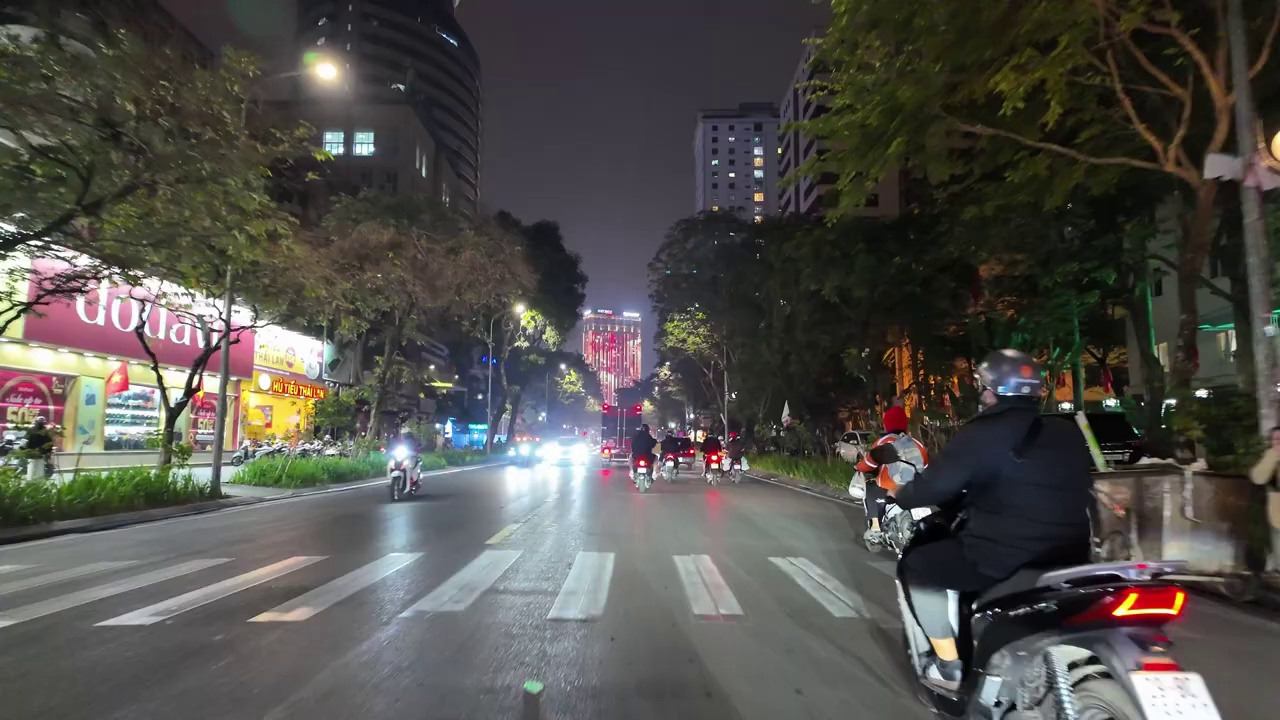acesa: (305, 52, 346, 92), (513, 300, 537, 326)
